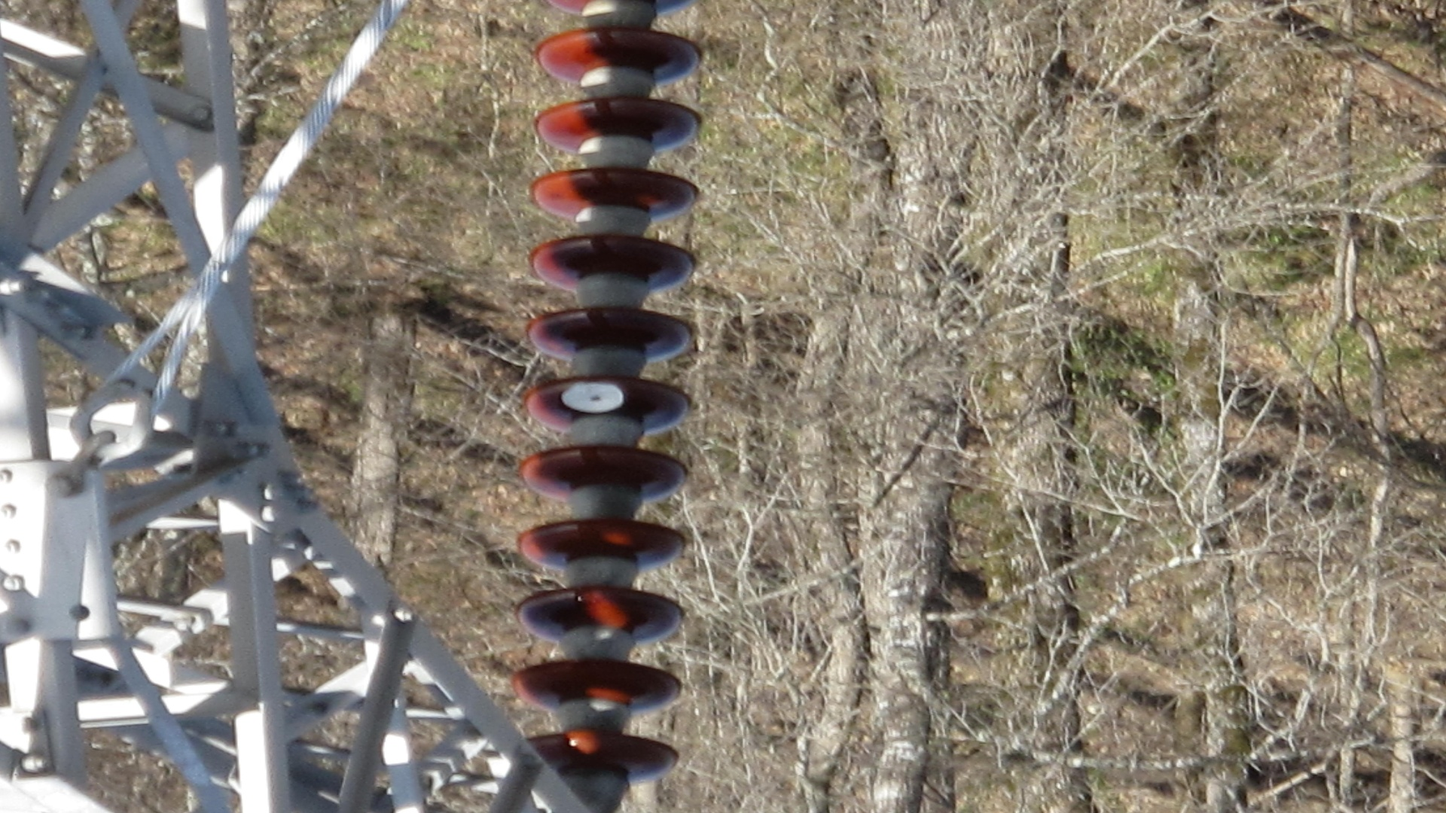insulator: (508, 1, 710, 790)
insulator_breakage: (557, 374, 627, 416)
